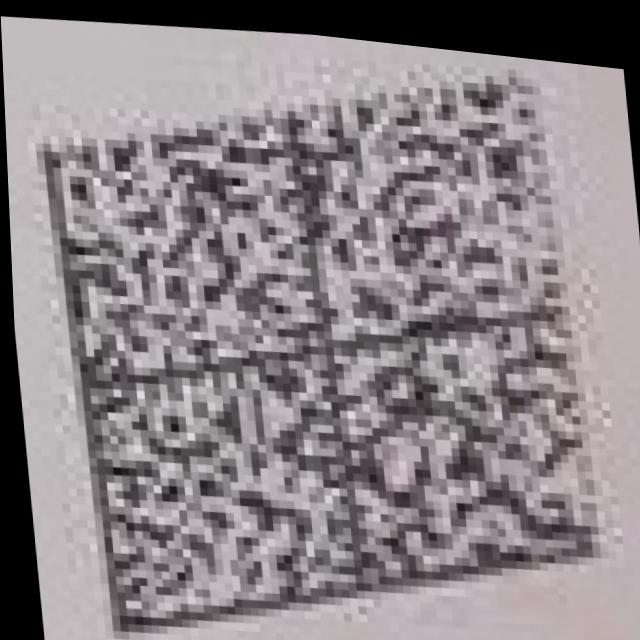QR_CODE: (28, 13, 607, 640)
